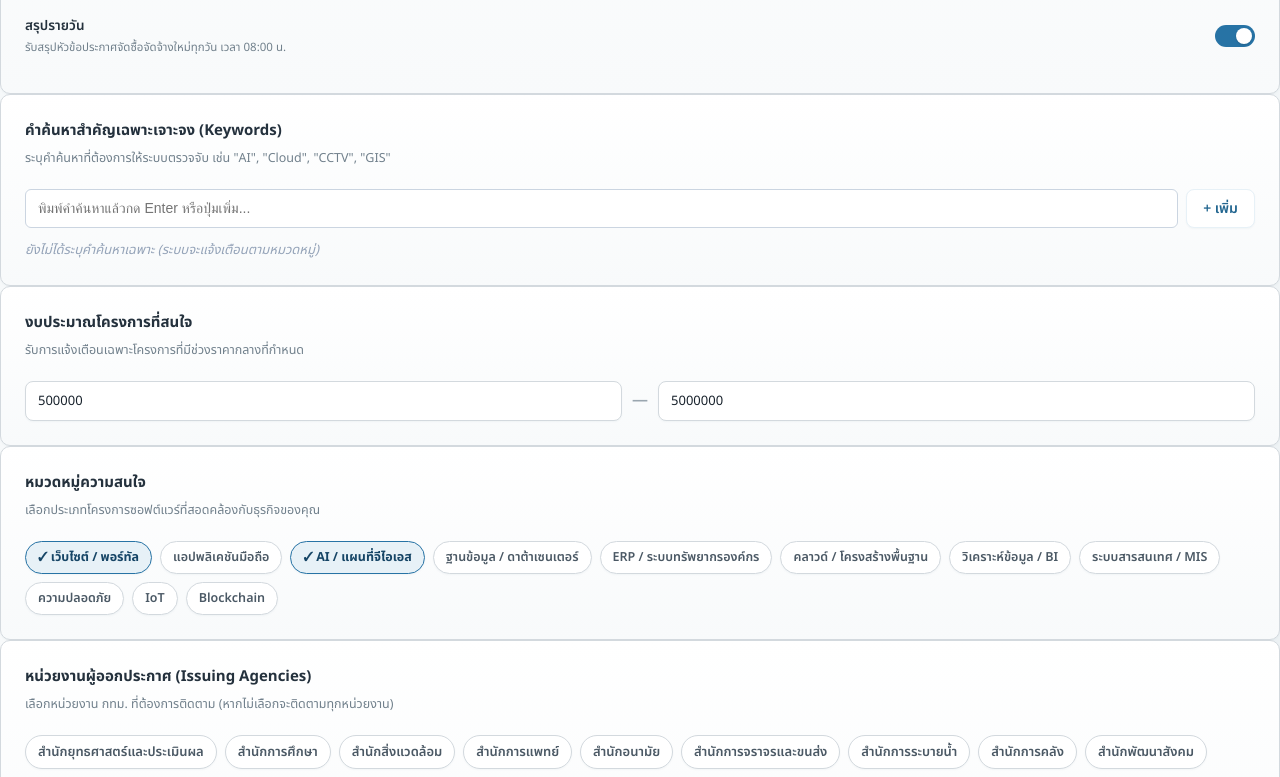
it: NotificationPreferencesPanel Component › shows validation error when budgetMax is lower than budgetMin
(page scrolled)
Replace the text in the 1st number field with placeholder "งบประมาณขั้นต่ำ (บาท)" with "5000000" at (324, 401), box [25,381,622,421]
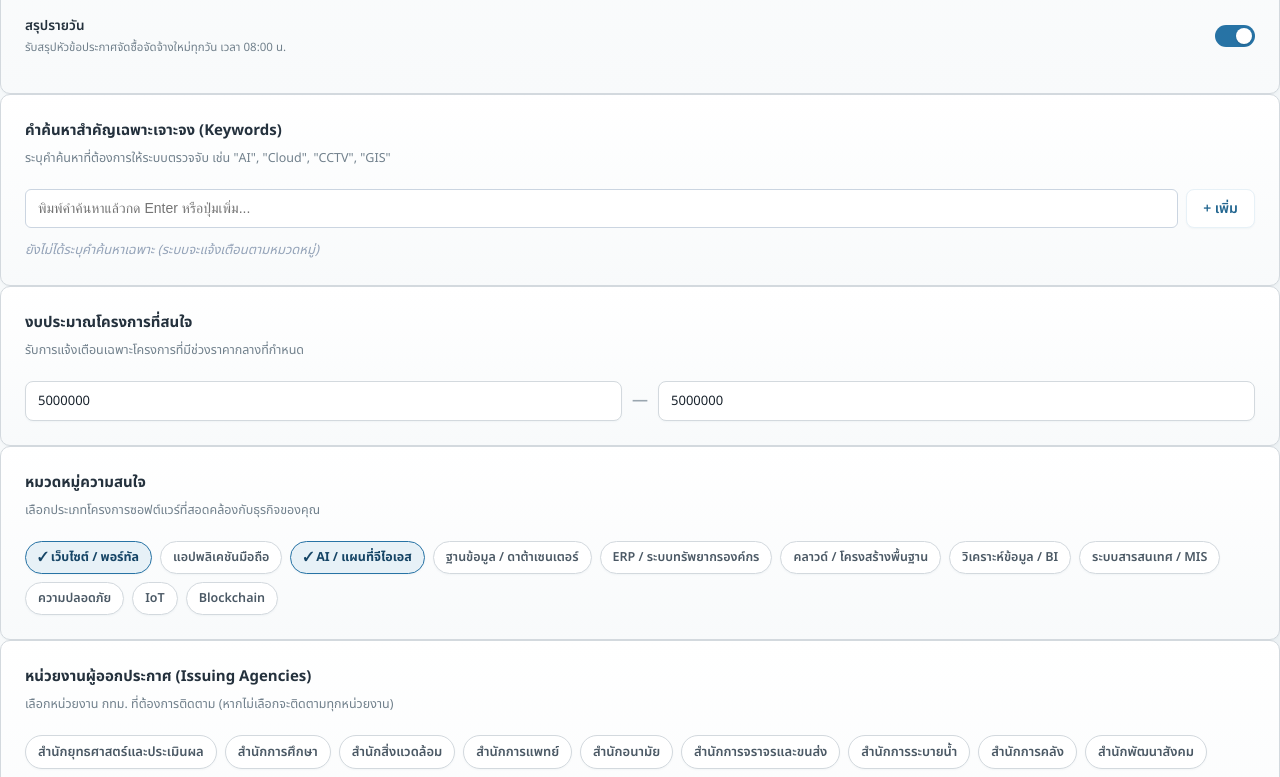
Replace the text in the 2nd number field with placeholder "งบประมาณสูงสุด (บาท)" with "1000000" at (956, 401), box [658,381,1255,421]
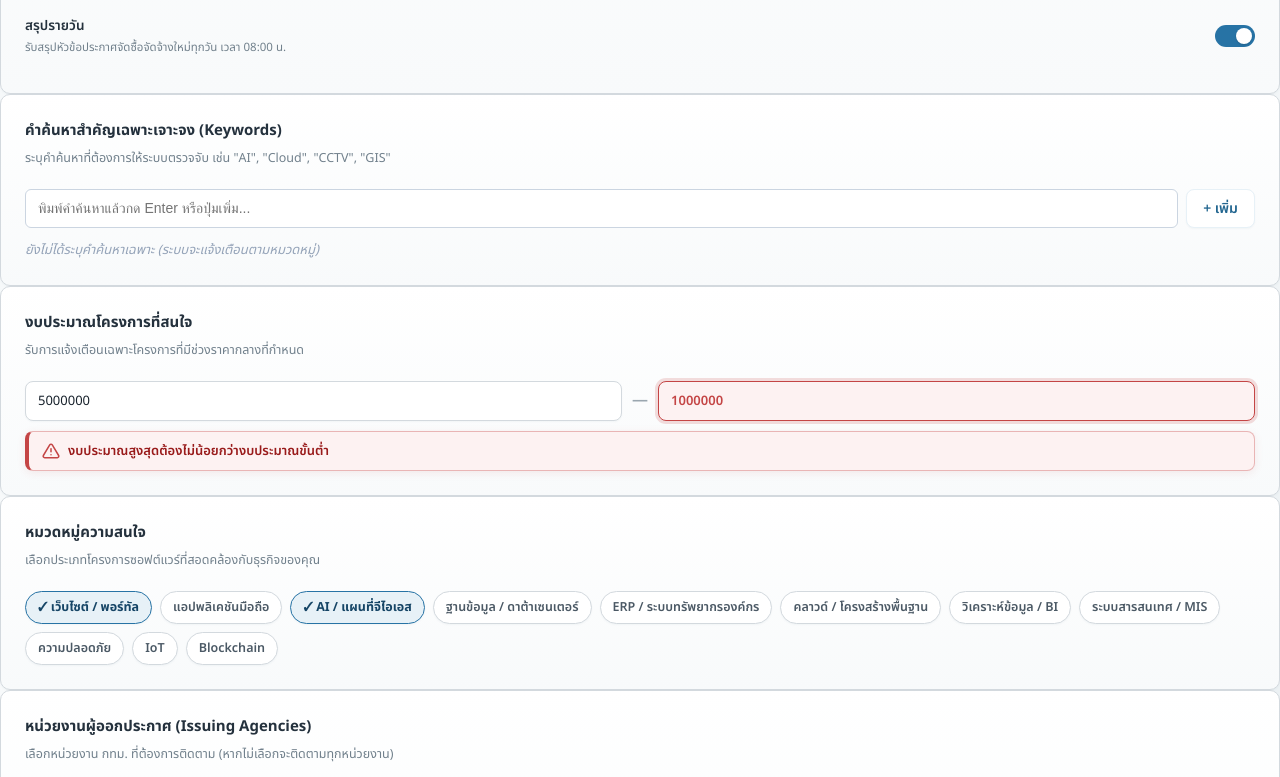
Expected: the text "งบประมาณสูงสุดต้องไม่น้อยกว่างบประมาณขั้นต่ำ" is shown, [68,441,329,462]
